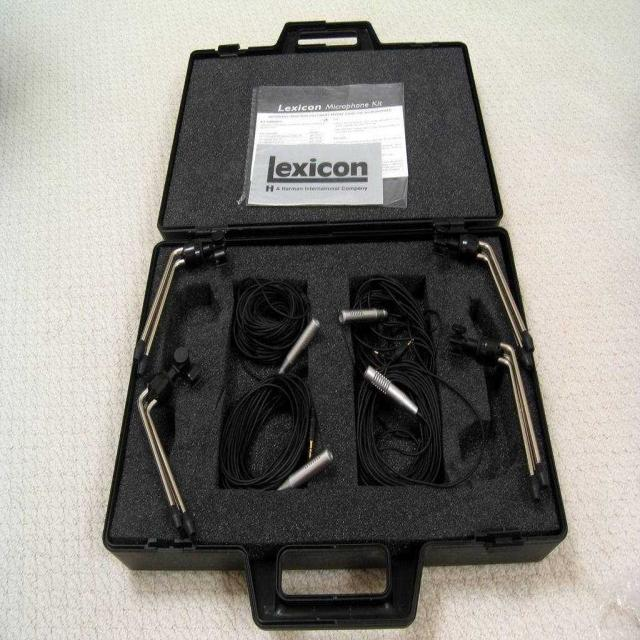microphone: (363, 361, 425, 421), (276, 317, 322, 375), (274, 448, 334, 492), (336, 302, 394, 330)
